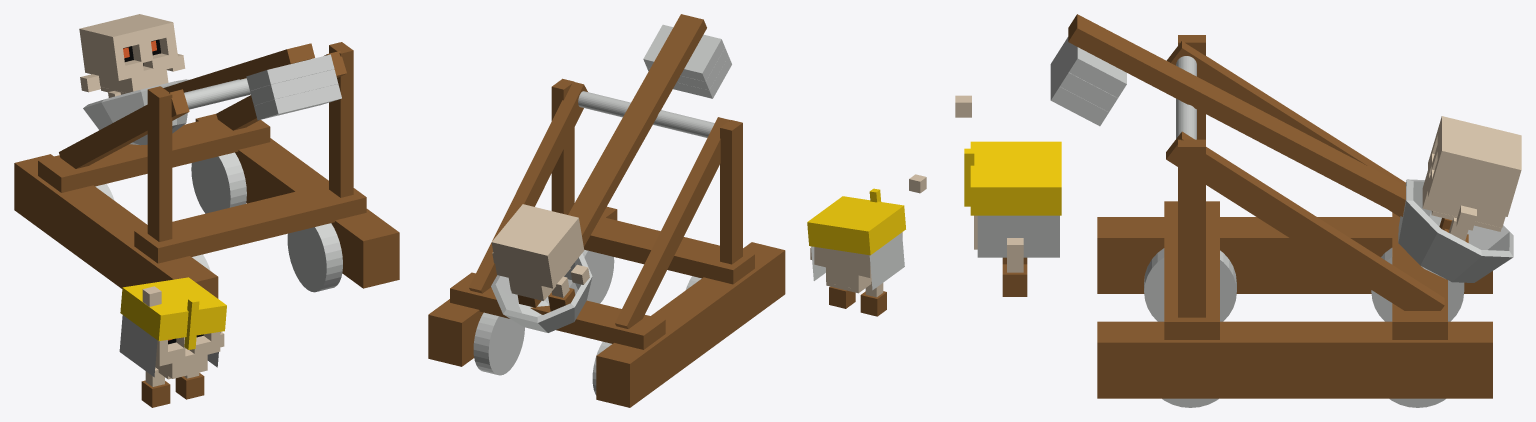
The model's file is Artillery2.fbx.
3 renders of one model, left to right at view 1: azimuth 30°, elevation 25°; view 2: azimuth 150°, elevation 25°; view 3: azimuth 270°, elevation 25°, orthographic. The views are drawn at different scales.
Parts seen in each view (by area): view 1: Cube.171; view 2: Cube.171; view 3: Cube.171.
Part boxes in pixels (x1,y1,x2,y2): Cube.171: (14, 14, 399, 407); Cube.171: (428, 14, 926, 407); Cube.171: (955, 14, 1521, 407).
Size of the model in its own units: 821 by 747 by 1098.
1 material, 1 textured.
